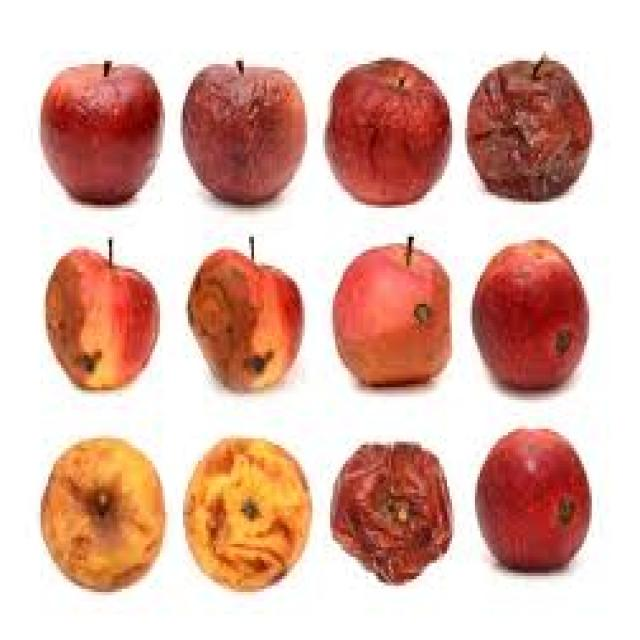Red Apple: (44, 63, 164, 197)
Rotten Apple: (180, 433, 313, 591), (41, 437, 166, 592), (469, 238, 587, 390), (332, 436, 452, 585), (180, 250, 304, 392), (329, 64, 452, 205), (468, 59, 590, 201), (332, 245, 454, 387), (474, 428, 592, 569), (45, 246, 158, 391), (186, 68, 307, 203)
